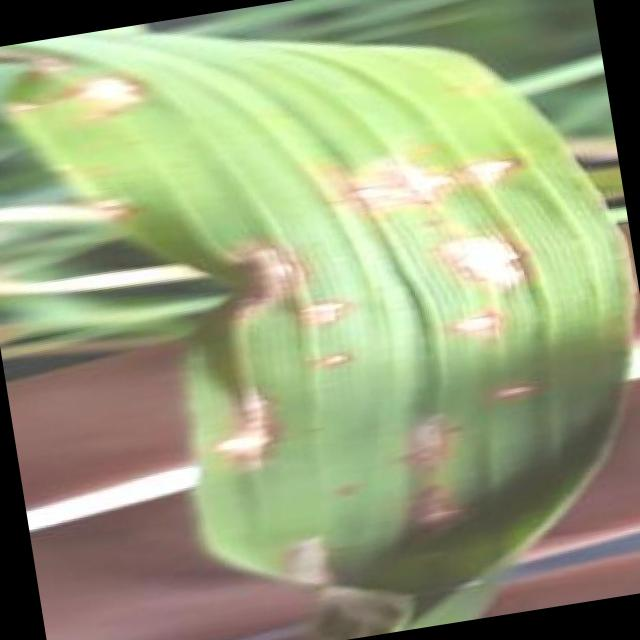Rice_Blast: (313, 111, 526, 232), (414, 200, 578, 318), (181, 216, 317, 346), (195, 364, 295, 472), (53, 55, 152, 147), (75, 165, 173, 248), (259, 512, 345, 585), (284, 324, 369, 388), (294, 281, 354, 332)
